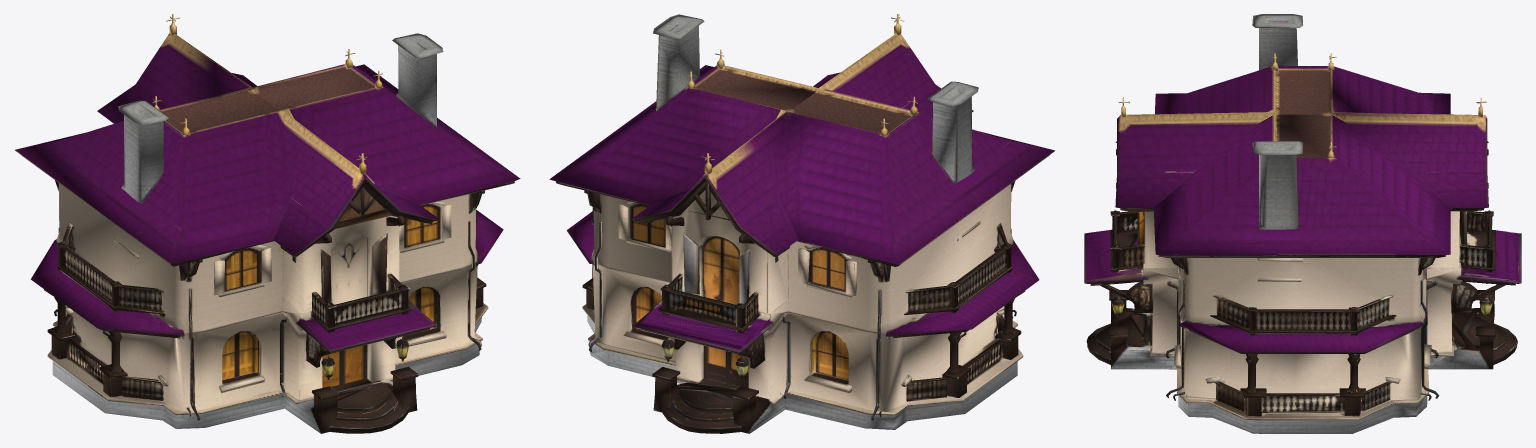
File: royal-lodge.glb
3 renders of one model, left to right at view 1: azimuth 30°, elevation 25°; view 2: azimuth 150°, elevation 25°; view 3: azimuth 270°, elevation 25°, orthographic. The views are drawn at different scales.
Bounding box in the file's own units: 0.9556 × 0.6299 × 0.9453.
1 material, 1 textured.
